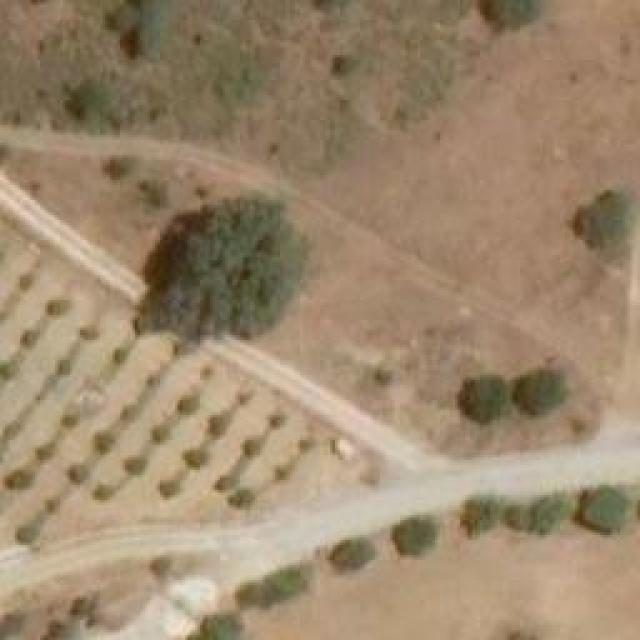Tree: (142, 195, 309, 335), (572, 187, 640, 255), (70, 72, 140, 136), (100, 0, 170, 58), (515, 368, 560, 413), (578, 488, 623, 533), (460, 375, 500, 423), (460, 493, 500, 536), (397, 513, 435, 558), (475, 0, 533, 25), (535, 492, 573, 530), (330, 535, 368, 568), (193, 615, 244, 638), (235, 583, 275, 610), (273, 565, 306, 596), (328, 50, 364, 78), (105, 155, 140, 183), (140, 180, 170, 208), (227, 488, 255, 513), (2, 470, 30, 493), (505, 500, 525, 530), (208, 413, 231, 438), (93, 430, 116, 455), (175, 395, 198, 418), (180, 448, 203, 471), (123, 455, 146, 478), (210, 473, 233, 496), (45, 298, 70, 318), (42, 497, 63, 518), (293, 437, 316, 455), (70, 463, 90, 483), (93, 483, 113, 503), (15, 525, 35, 545), (60, 411, 82, 428), (110, 347, 130, 365), (240, 437, 260, 455), (172, 338, 190, 358), (17, 330, 35, 348), (55, 357, 73, 375), (160, 480, 178, 498), (0, 360, 18, 378), (0, 425, 20, 440), (80, 325, 98, 340), (272, 468, 290, 483), (32, 445, 50, 460), (18, 275, 33, 290), (150, 428, 165, 443), (120, 408, 135, 423), (268, 415, 283, 430)
